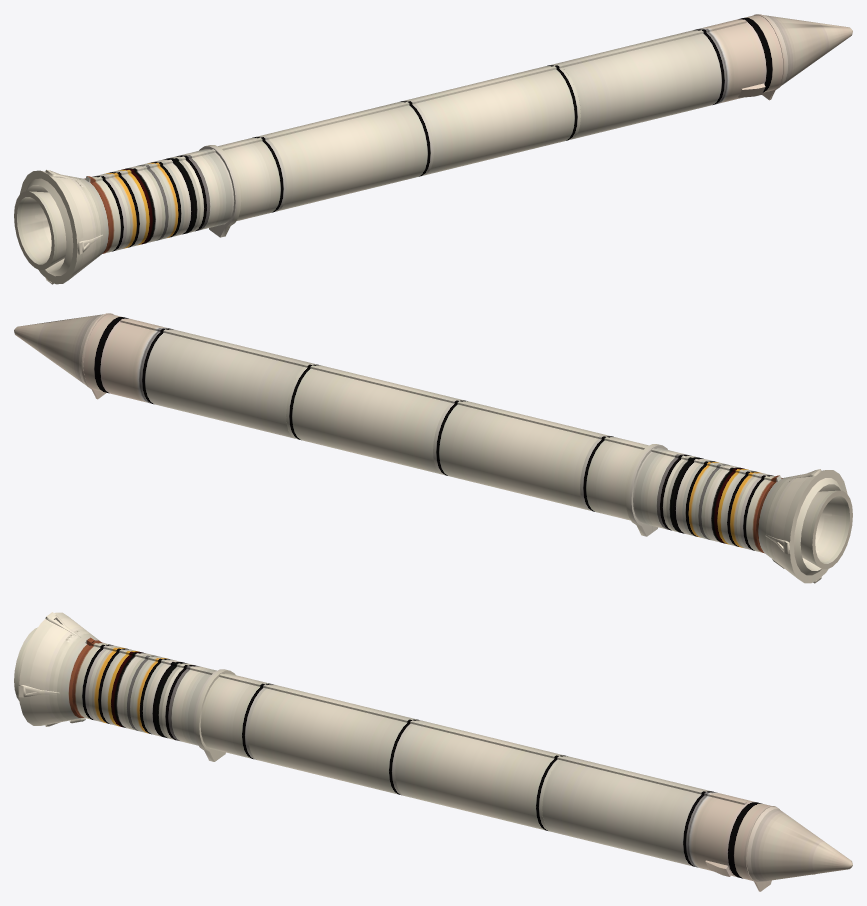
Rendered from solid-rocket-booster.glb.
3 views of the same model, one above another, from view 1: azimuth 30°, elevation 25°; view 2: azimuth 150°, elevation 25°; view 3: azimuth 330°, elevation 25° (orthographic).
Visible parts, largest first — view 1: srb.layer1; view 2: srb.layer1; view 3: srb.layer1.
Part boxes in pixels (<box>): srb.layer1: <box>14,14,852,284</box>; srb.layer1: <box>14,313,852,583</box>; srb.layer1: <box>14,612,852,891</box>.
Size of the model in its own units: 1781 by 229 by 229.
Materials: 1 (1 with a texture image).
